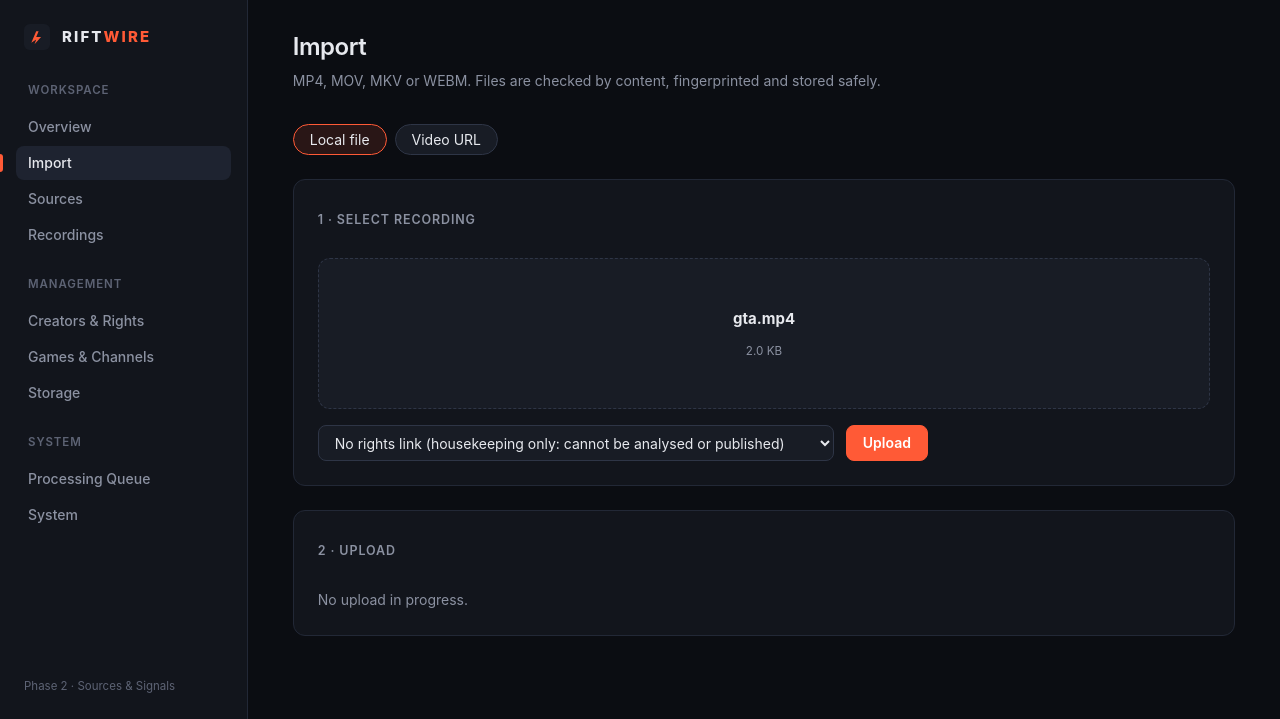
it: Import workflow › uploads once, shows upload progress, then background processing
Earlier steps of the test are not shown.
Later steps or results of the test are not shown.
Click the button "Upload" at (887,443), box [846,425,928,461]
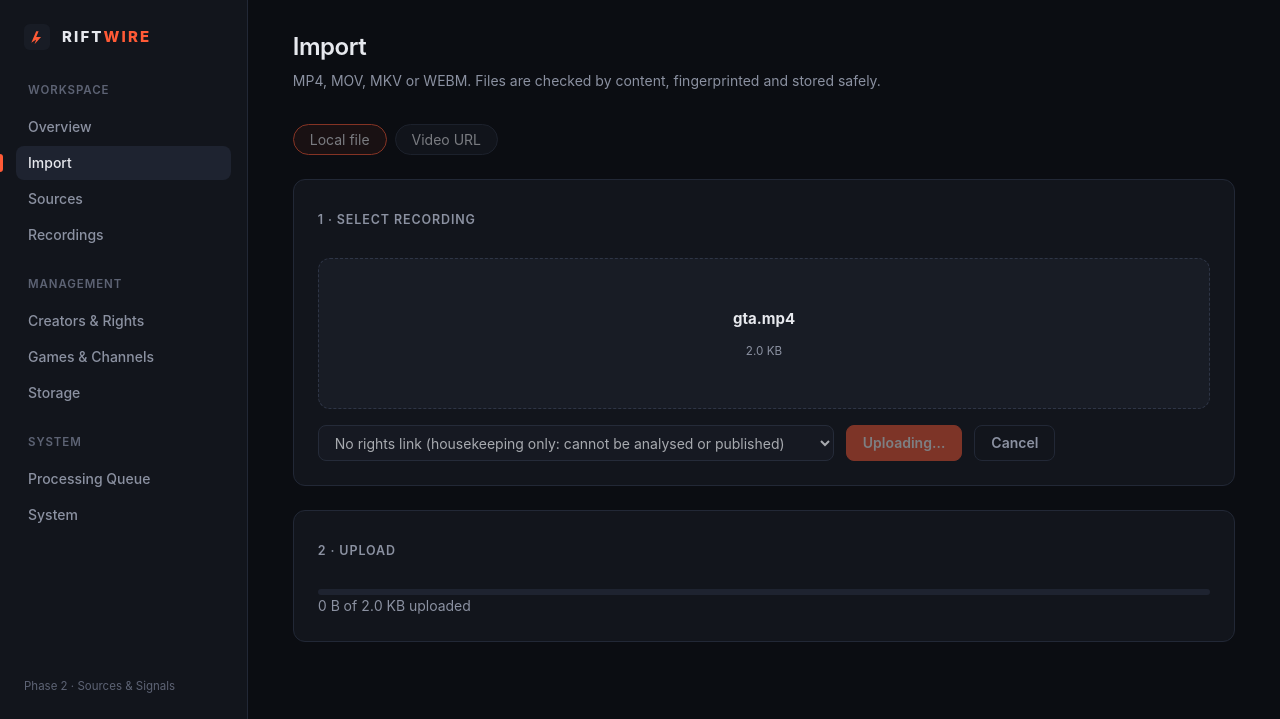
Click the button "Uploading…" at (904,443), box [846,425,962,461]
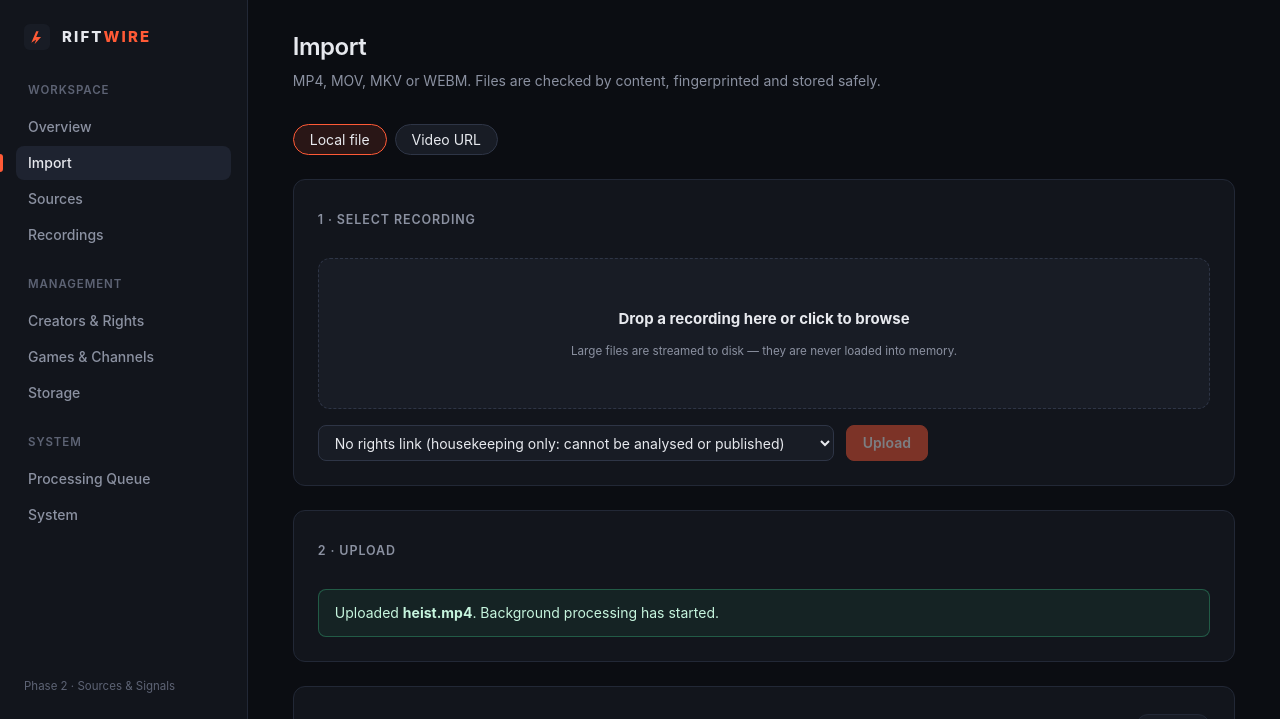
Expected: the button named "Uploading…" is disabled, [846,425,928,461]
Expected: the button "Upload" is disabled, [846,425,928,461]
